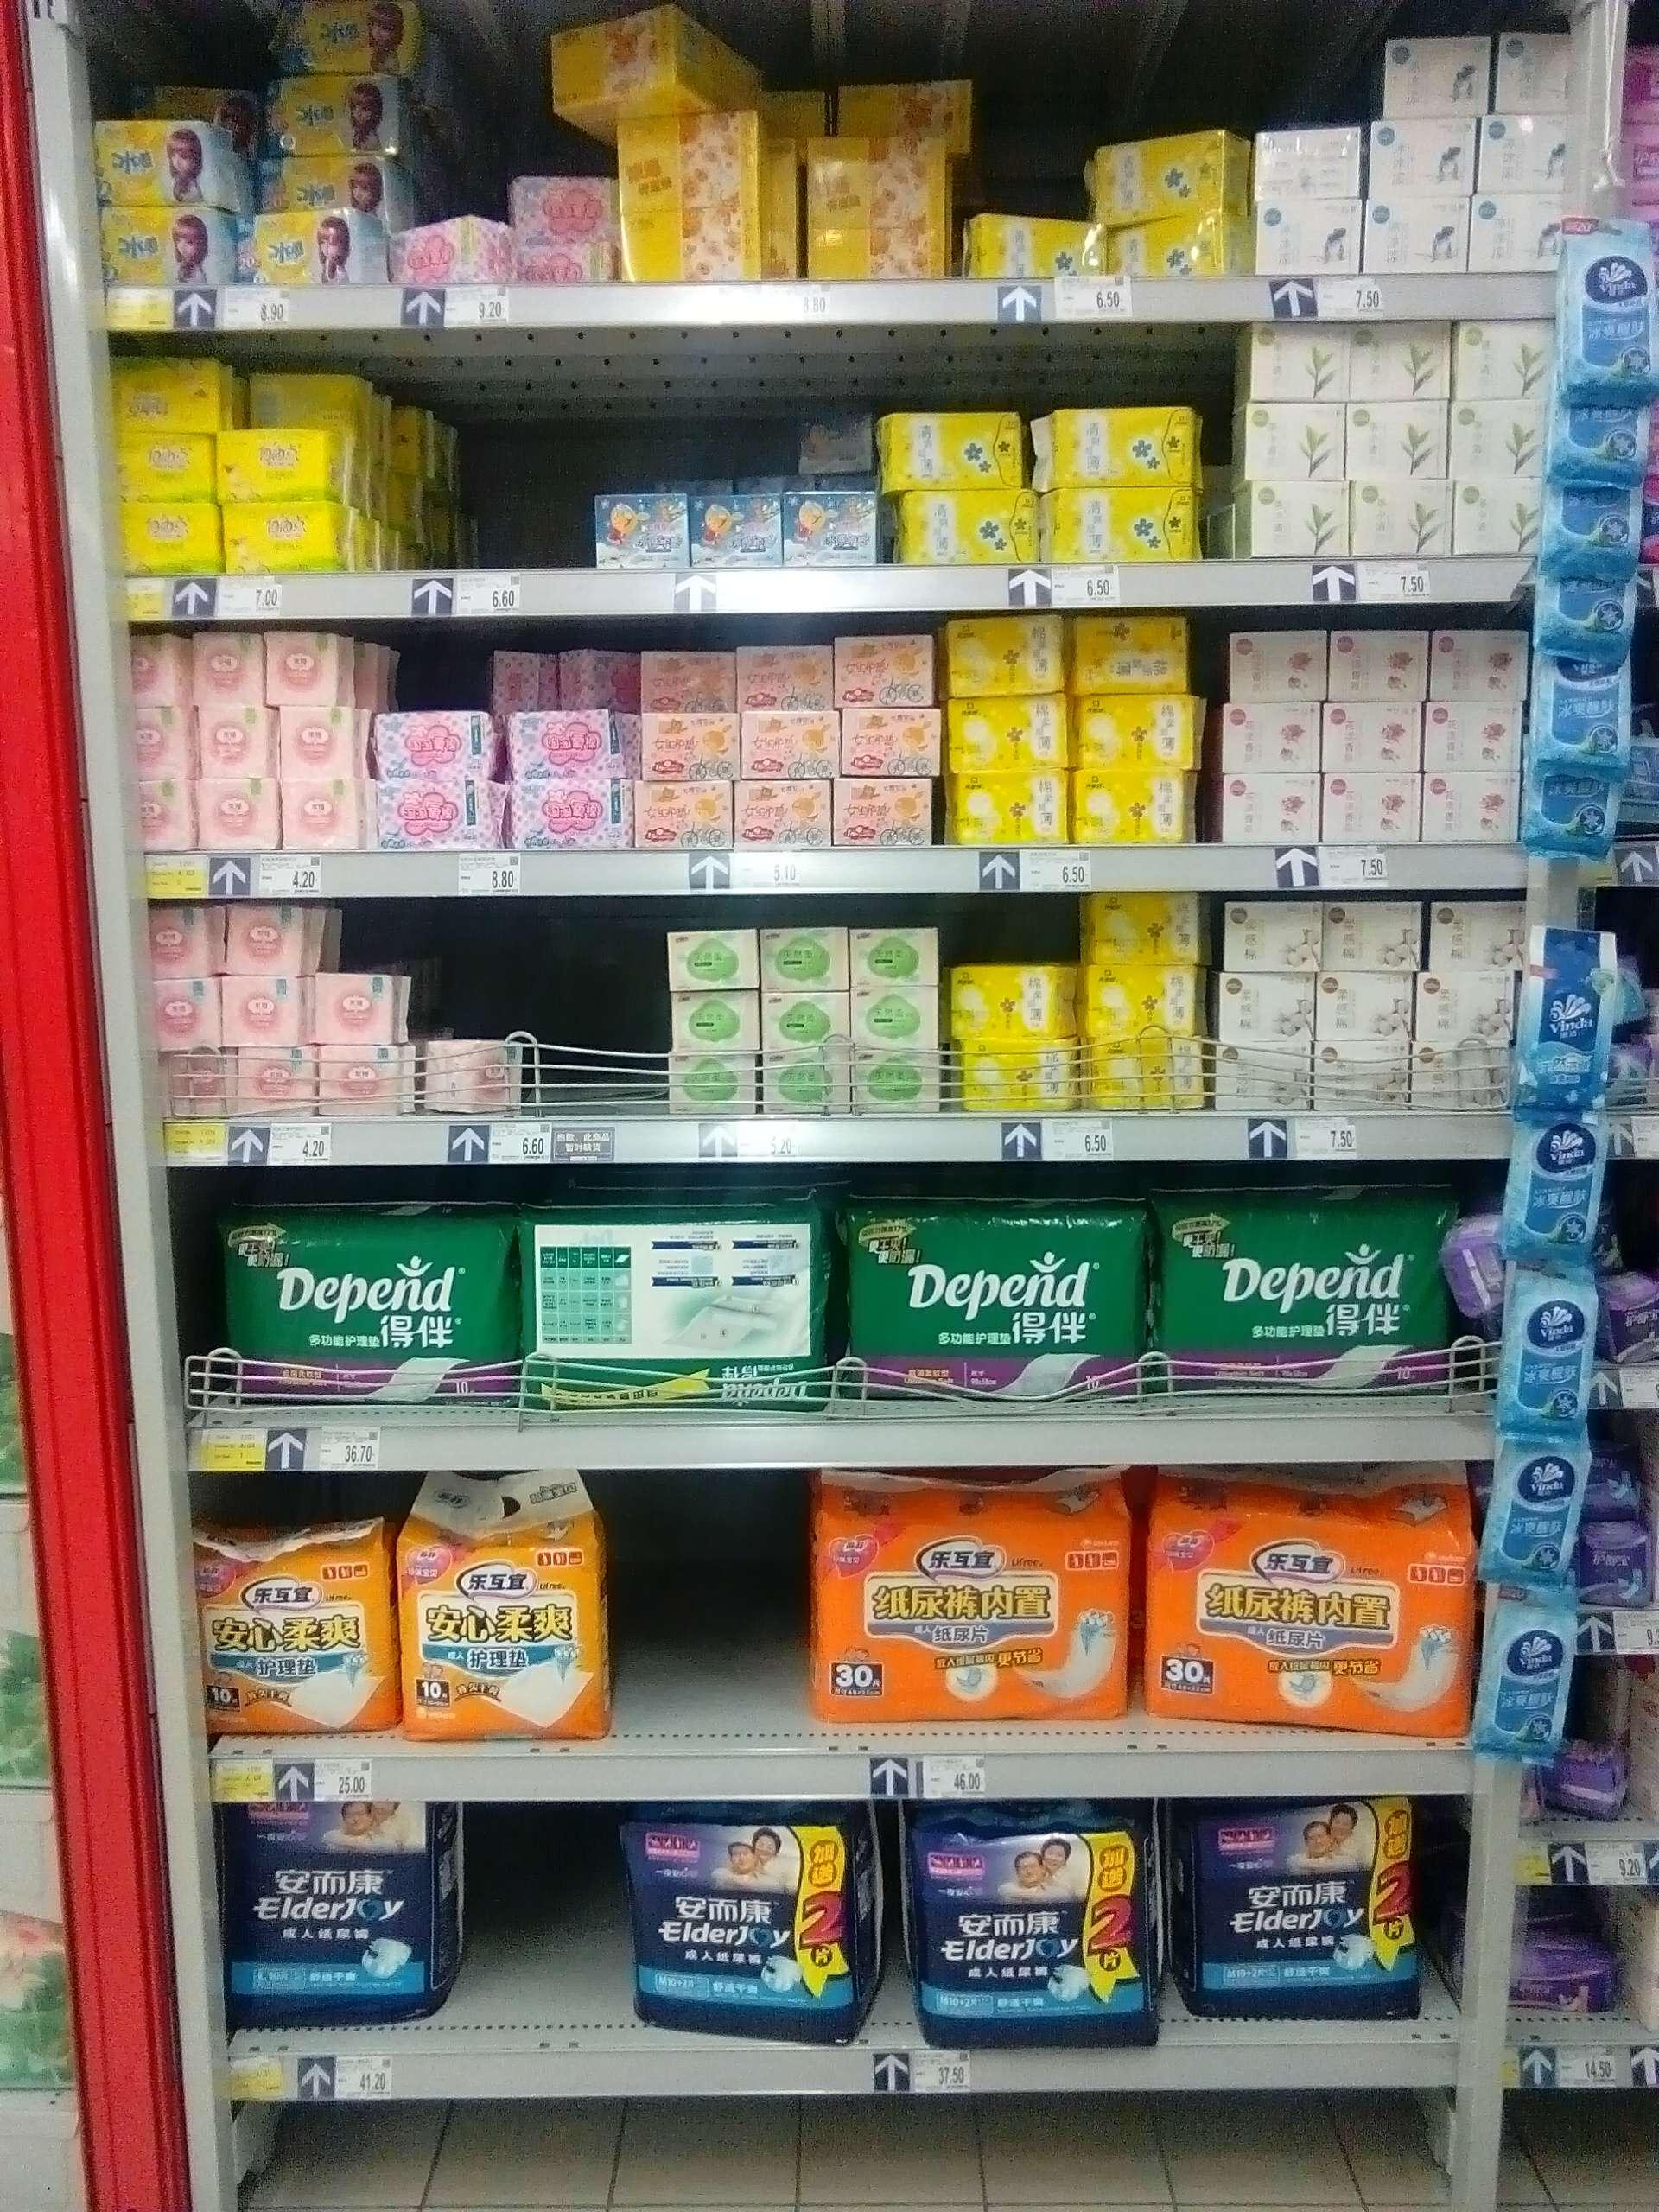empty: (605, 1482, 802, 1740), (450, 1797, 622, 2027), (413, 368, 584, 570), (519, 892, 664, 1113), (599, 362, 796, 493), (406, 914, 516, 1042)
